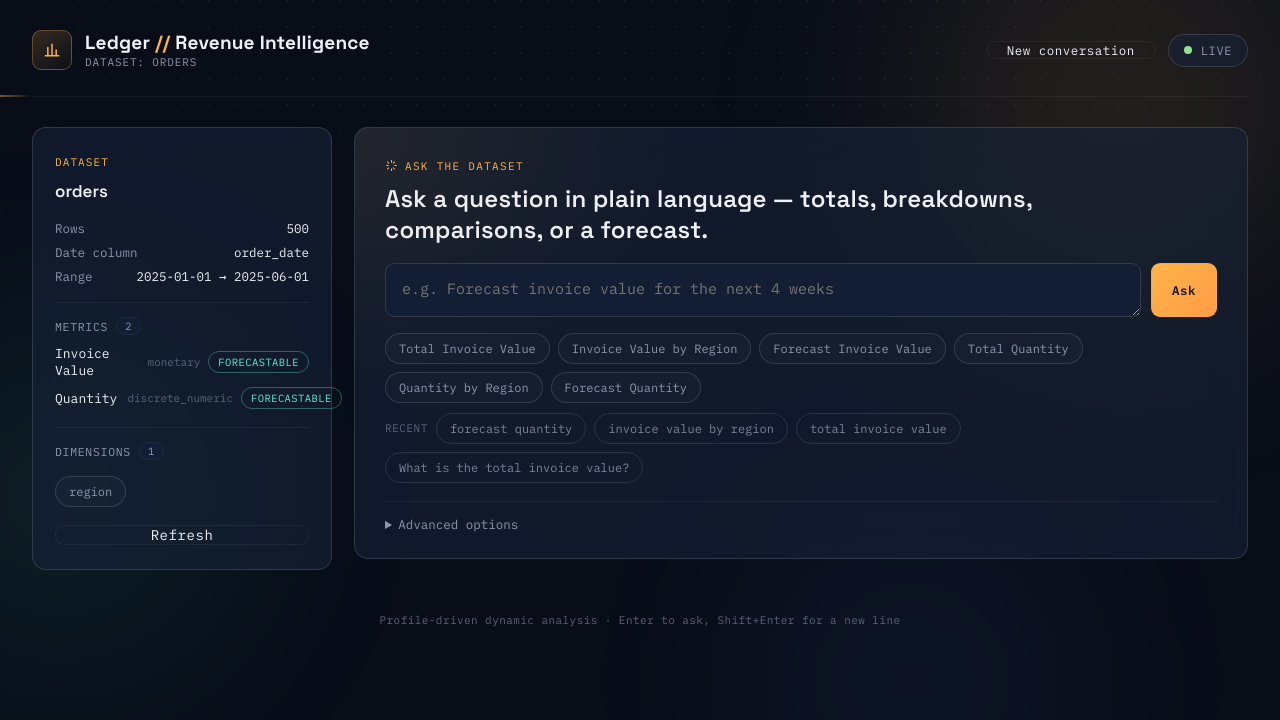
it: App › does not treat an empty success payload as a completed answer
Expected: the text "Invoice Value" is shown, [55,345,110,379]
Type "empty result" into the text box named "ask a question about your dataset" at (763, 290), box [386,264,1140,316]
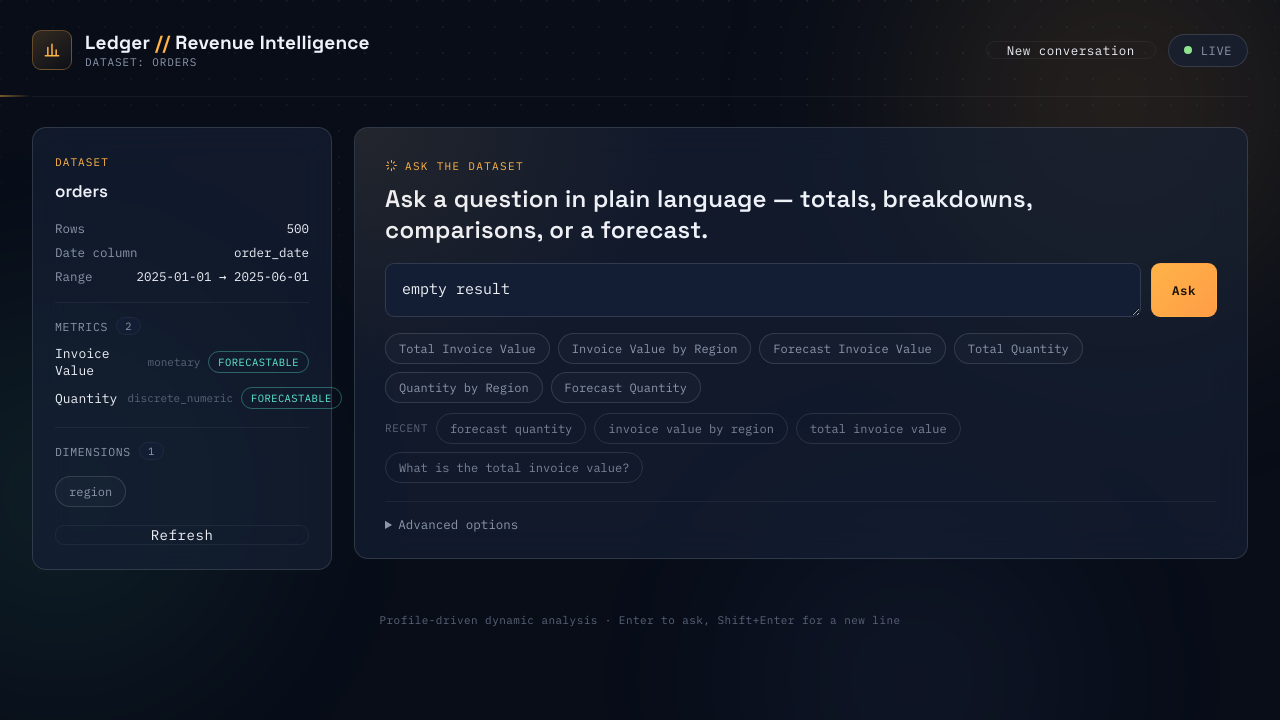
Press Enter in the text box named "ask a question about your dataset", box [386,264,1140,316]
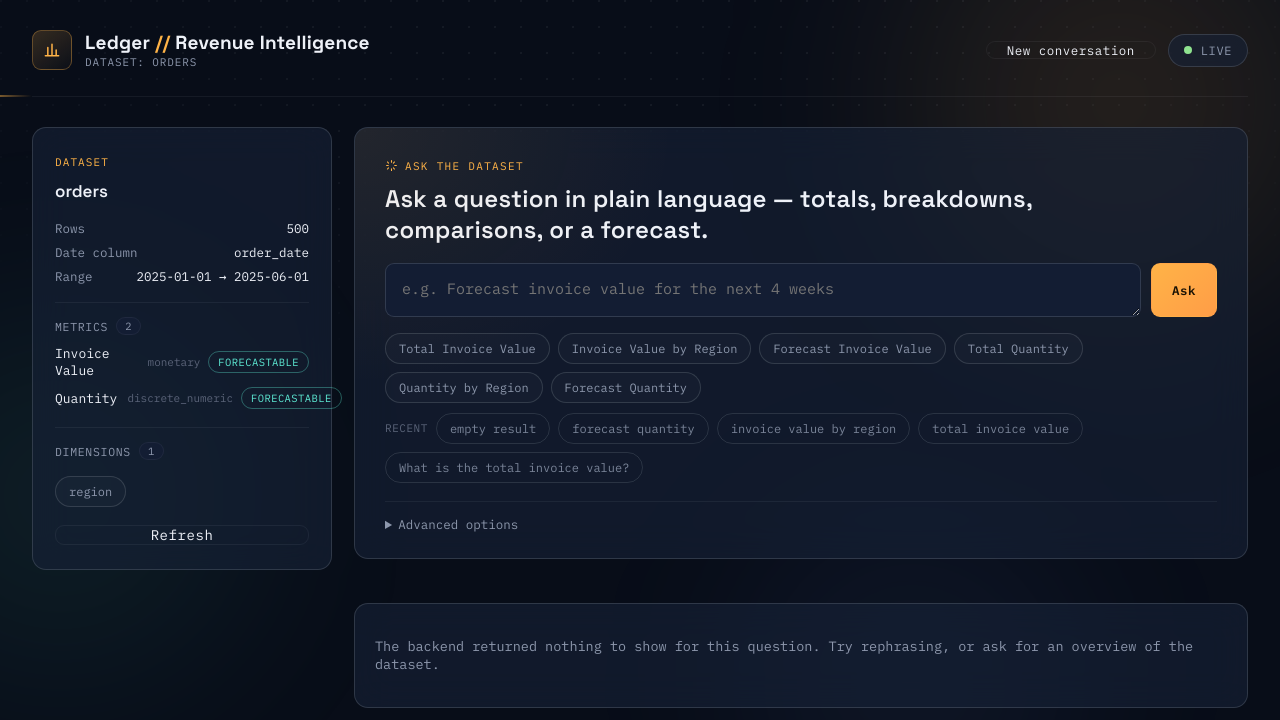
Expected: the text "backend returned nothing to show" is shown, [375,637,1193,673]
